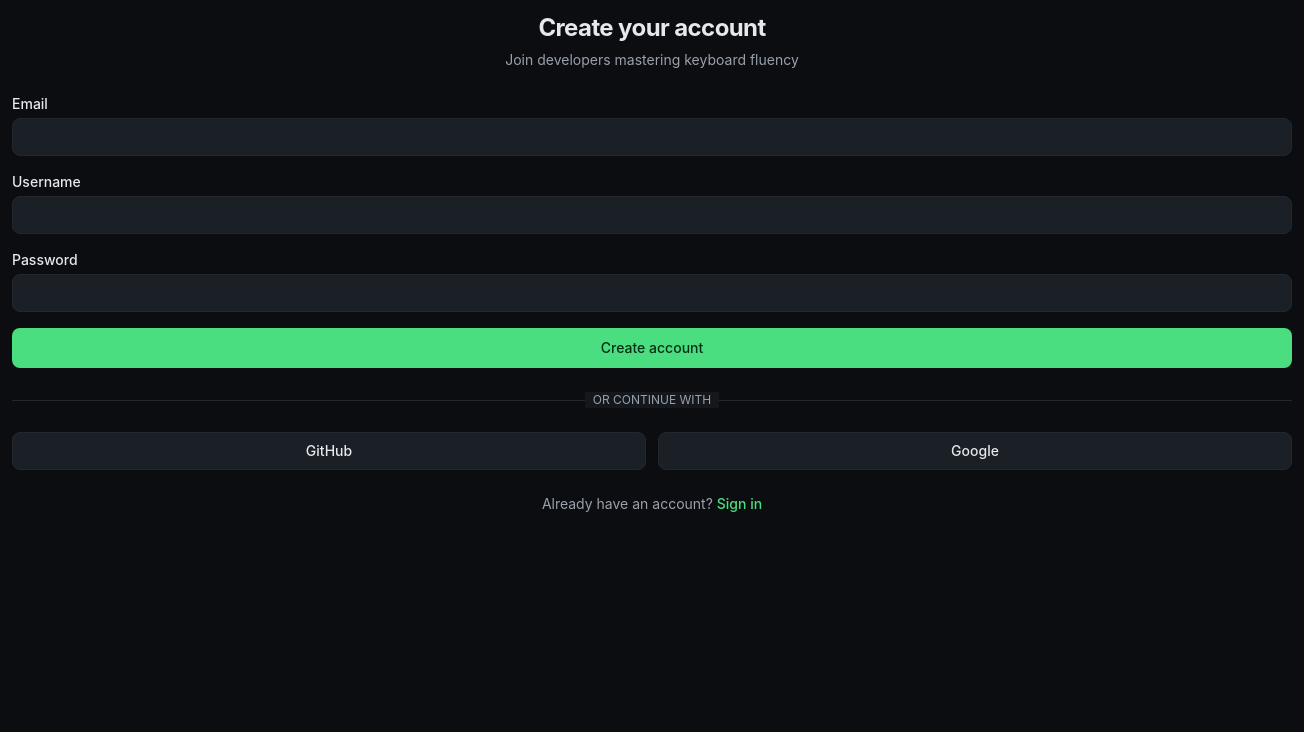
Test case: RegisterPage Component › displays error when email is already taken
The image size is (1304, 732).
Type "taken@devtype.com" into the field labelled "Email" at (652, 137), box [12,118,1292,156]
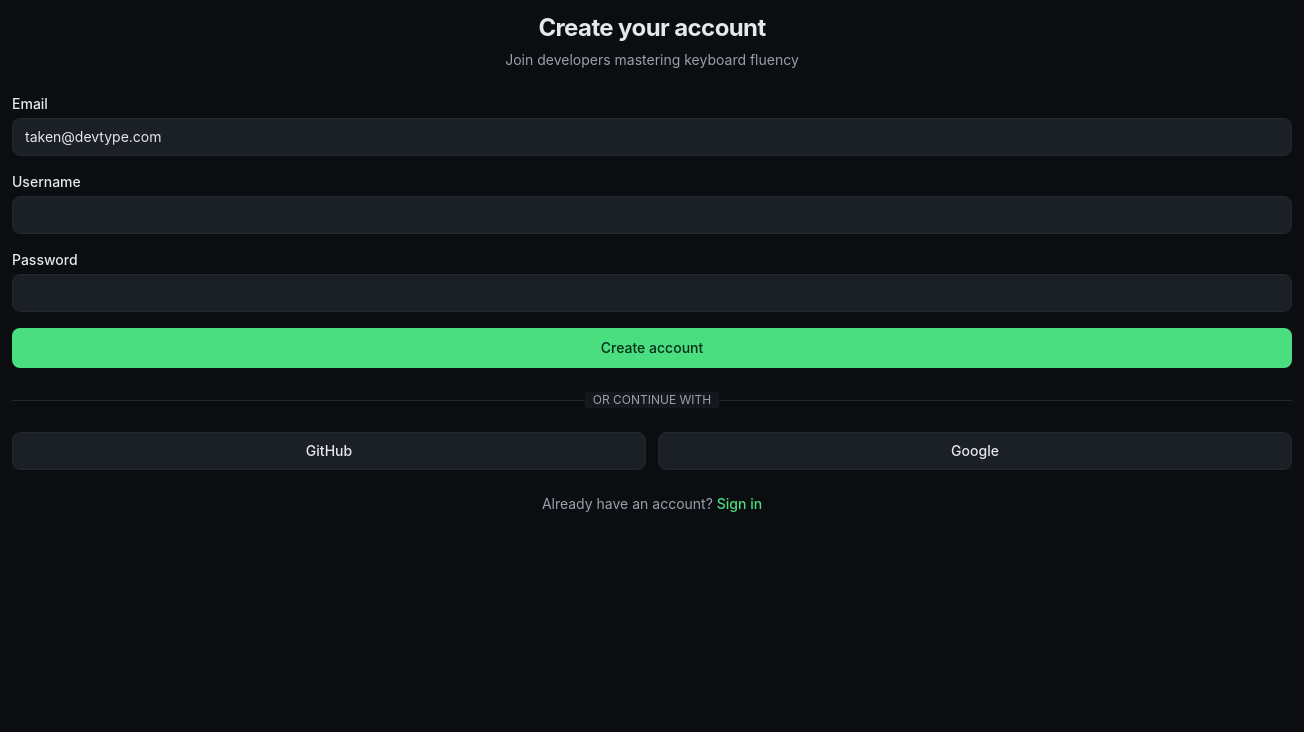
Type "validuser" into the field labelled "Username" at (652, 215), box [12,196,1292,234]
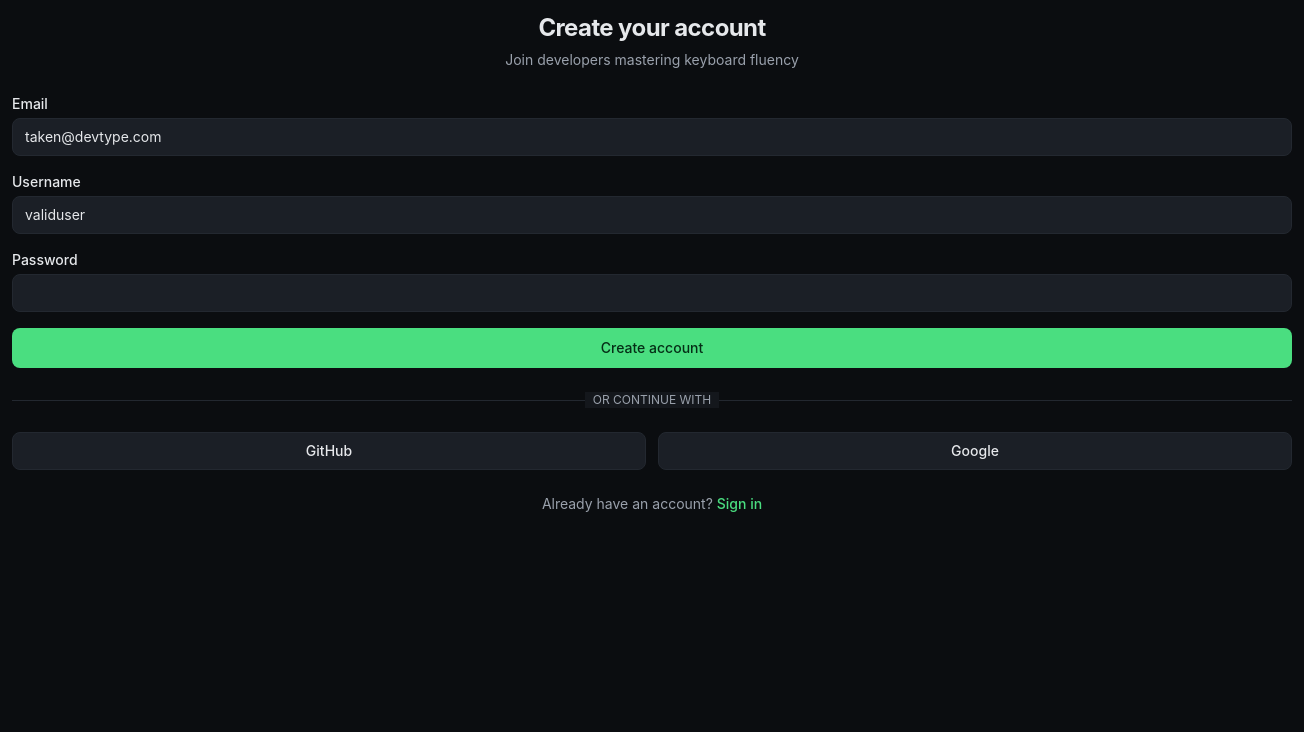
Type "ValidPassword123!" into the password field labelled "Password" at (652, 293), box [12,274,1292,312]
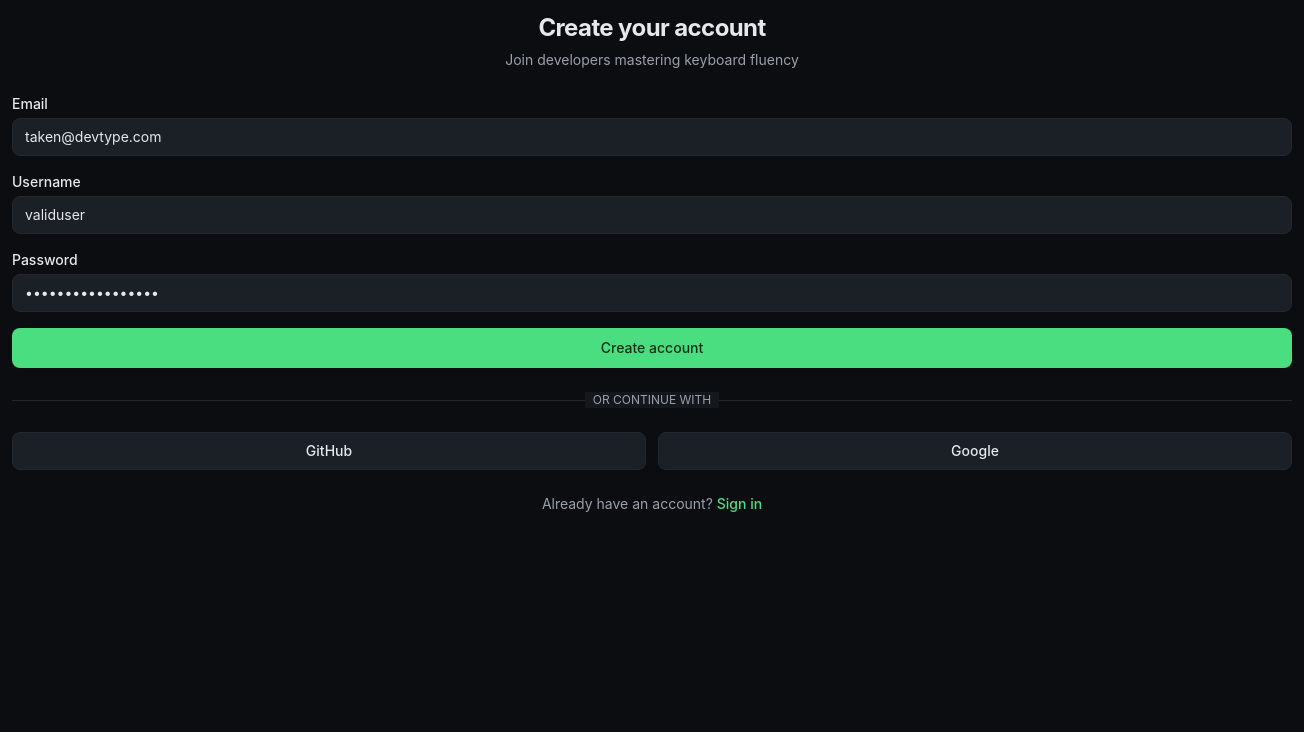
Click the button "Create account" at (652, 348), box [12,328,1292,368]
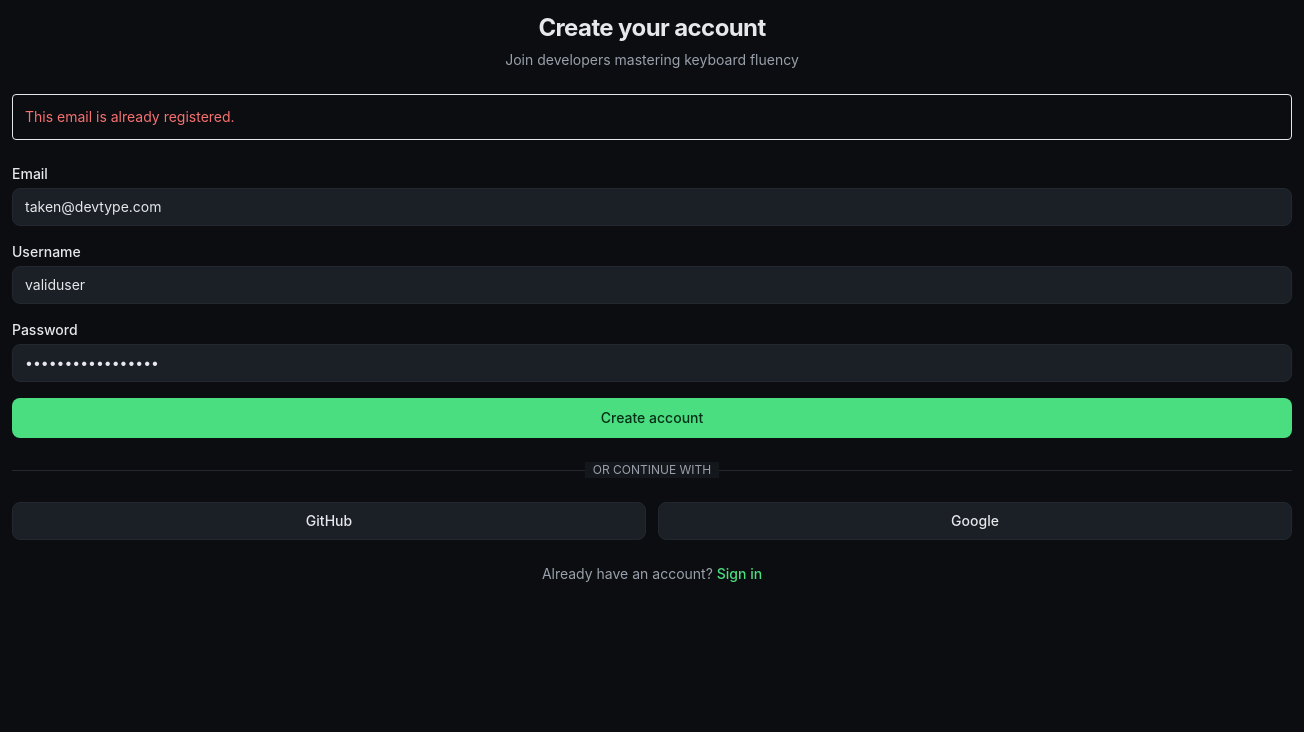
Result: the message "This email is already registered." is shown at [12,94,1292,140]
